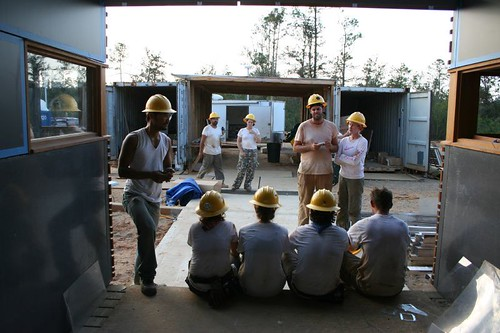person hardhat: (121, 93, 175, 298), (287, 191, 358, 304), (188, 187, 237, 300), (241, 187, 291, 297), (299, 93, 338, 219), (338, 107, 367, 232), (196, 109, 230, 193), (238, 113, 262, 193)
